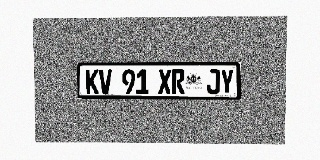1: (136, 69, 149, 94)
9: (122, 69, 135, 94)
J: (206, 69, 220, 94)
K: (86, 69, 99, 94)
R: (172, 69, 185, 94)
V: (99, 69, 112, 94)
X: (158, 69, 171, 94)
Y: (220, 69, 234, 94)
